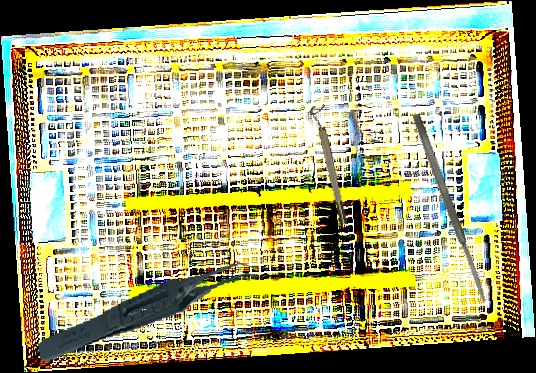Fixation Ring: (308, 103, 350, 227)
Spatula Surgical: (410, 112, 490, 305)
Tissue Forceps: (31, 260, 271, 364)
